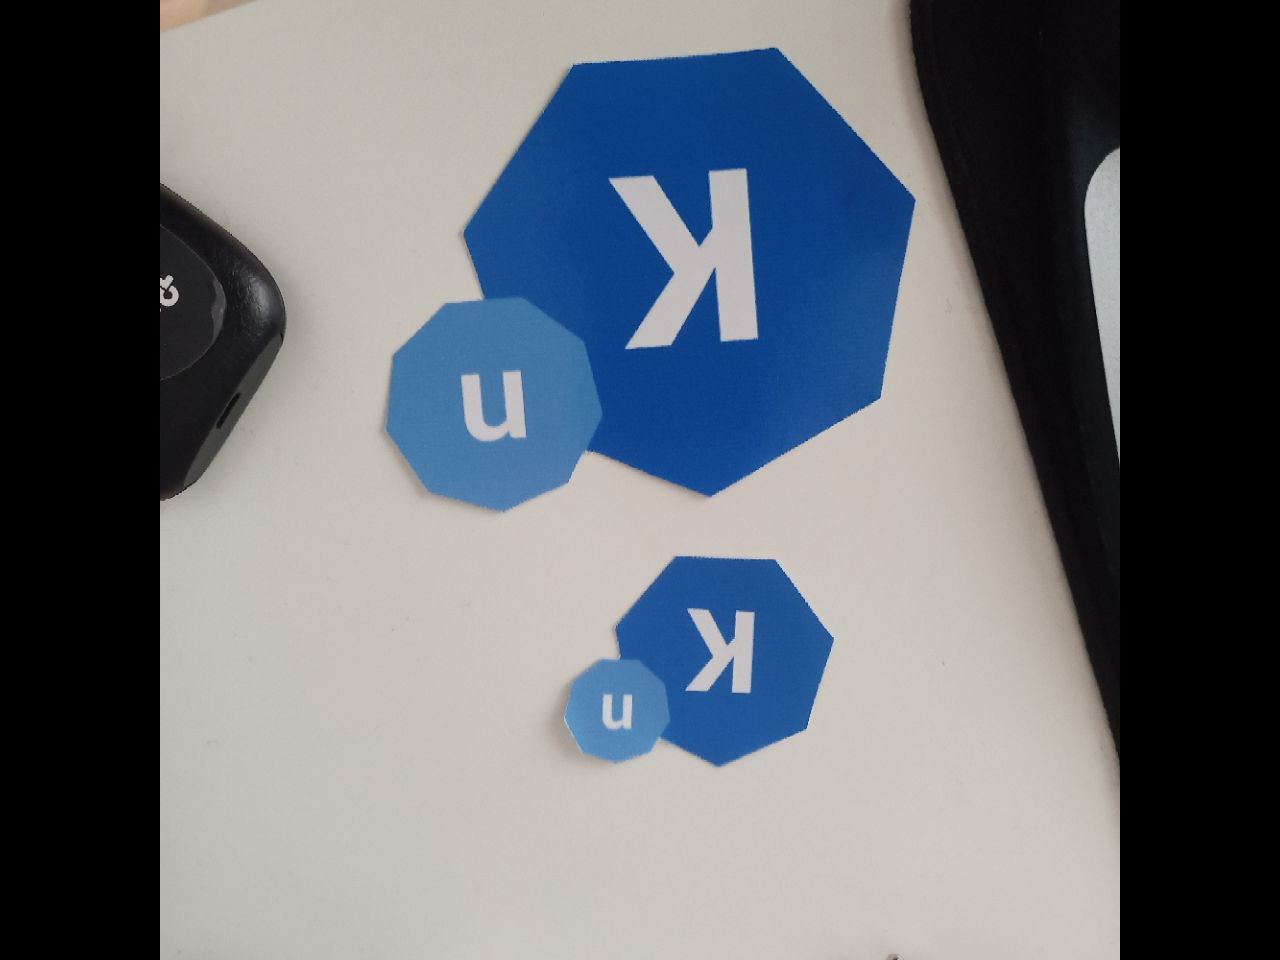knative: (606, 224, 1074, 764), (560, 553, 838, 772)
